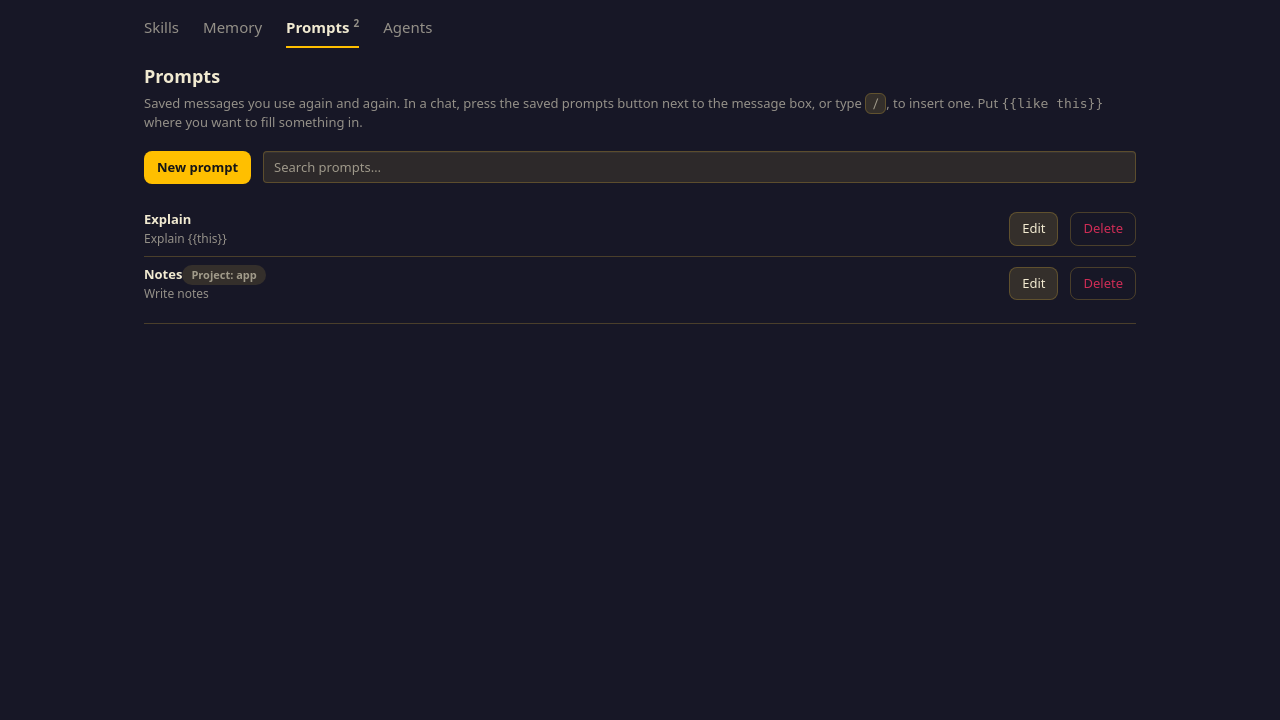
Test: PromptsPage › edits an existing prompt in place
The image size is (1280, 720).
Later steps or results of the test are not shown.
Click the button with aria-label "Edit Explain" at (1034, 229), box [1009, 212, 1058, 246]
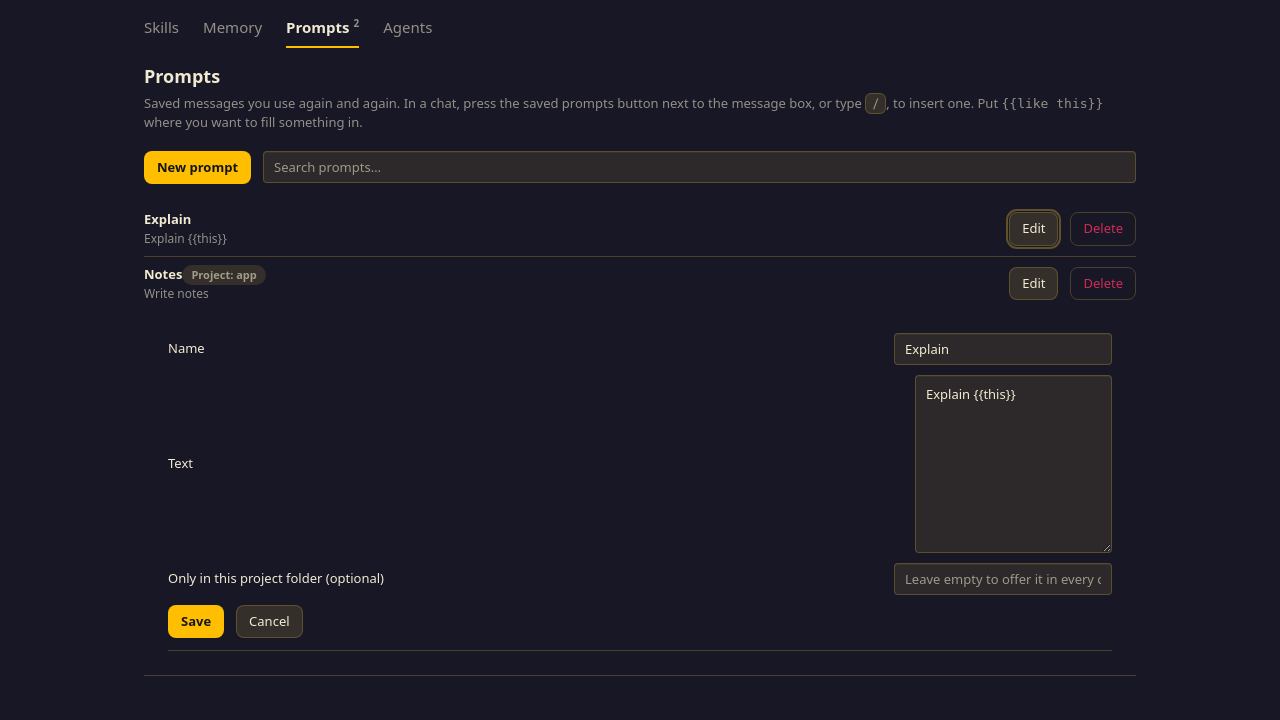
Check: the field labelled "Name" holds "Explain", box [894, 333, 1112, 365]
